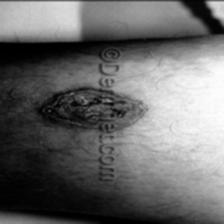Potentially Malignant Skin Tumors: (38, 88, 98, 132)
